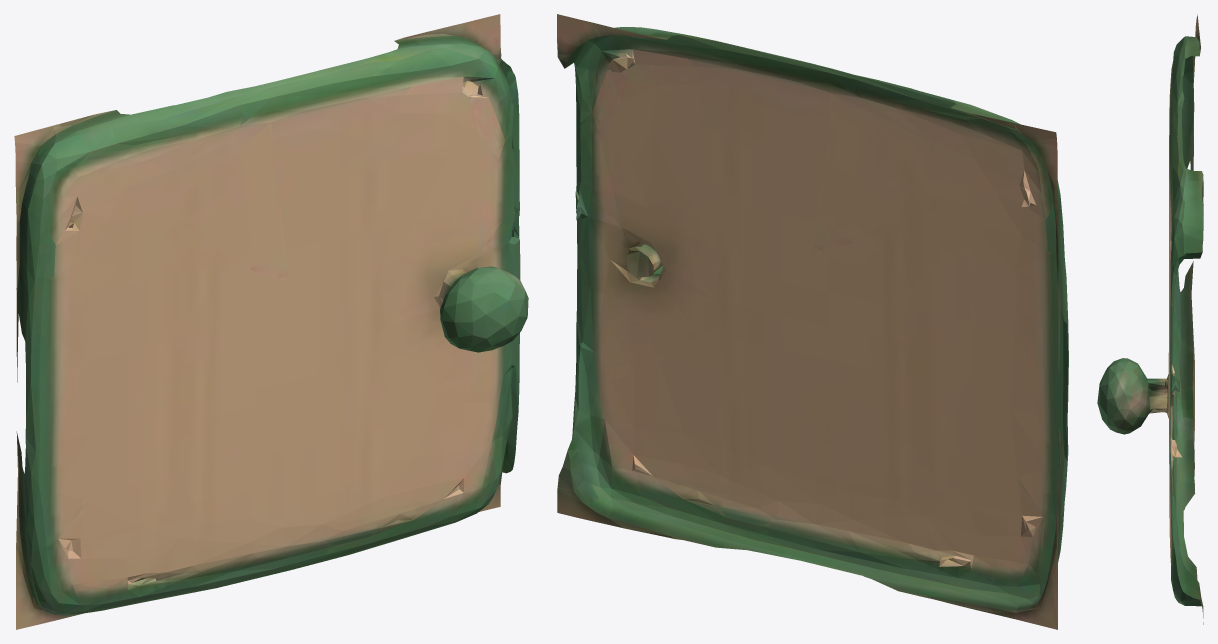
File: door_left.glb
3 views of the same model, side by side, from view 1: azimuth 30°, elevation 25°; view 2: azimuth 150°, elevation 25°; view 3: azimuth 270°, elevation 25° (orthographic). The views are drawn at different scales.
Visible parts, largest first — view 1: source_surface_0; view 2: source_surface_0; view 3: source_surface_0.
Part boxes in pixels (box(x1,y1,x2,y2)): source_surface_0: box(14, 14, 528, 629); source_surface_0: box(557, 14, 1068, 629); source_surface_0: box(1097, 14, 1203, 624).
Size of the model in its own units: 0.2579 by 0.248 by 0.0576.
1 material, 1 textured.
